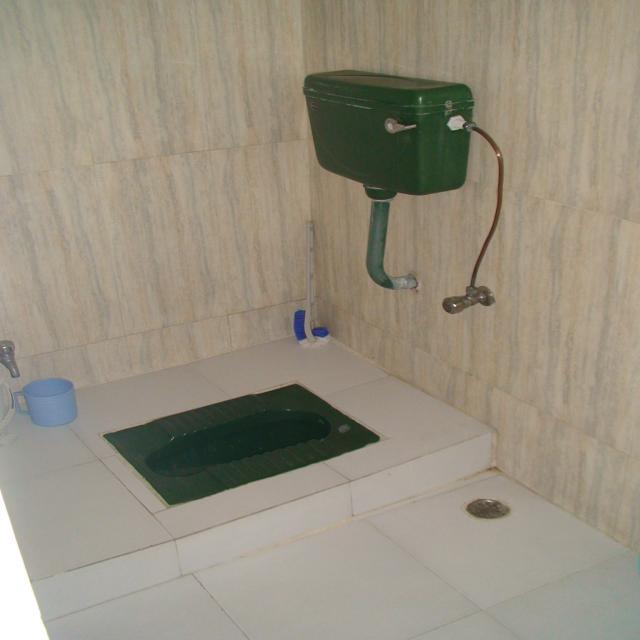dirty_floor: (1, 0, 638, 555), (1, 333, 637, 637)
